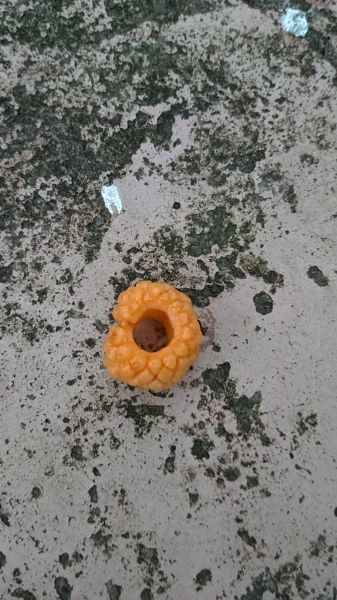eggs: (102, 272, 203, 396)
